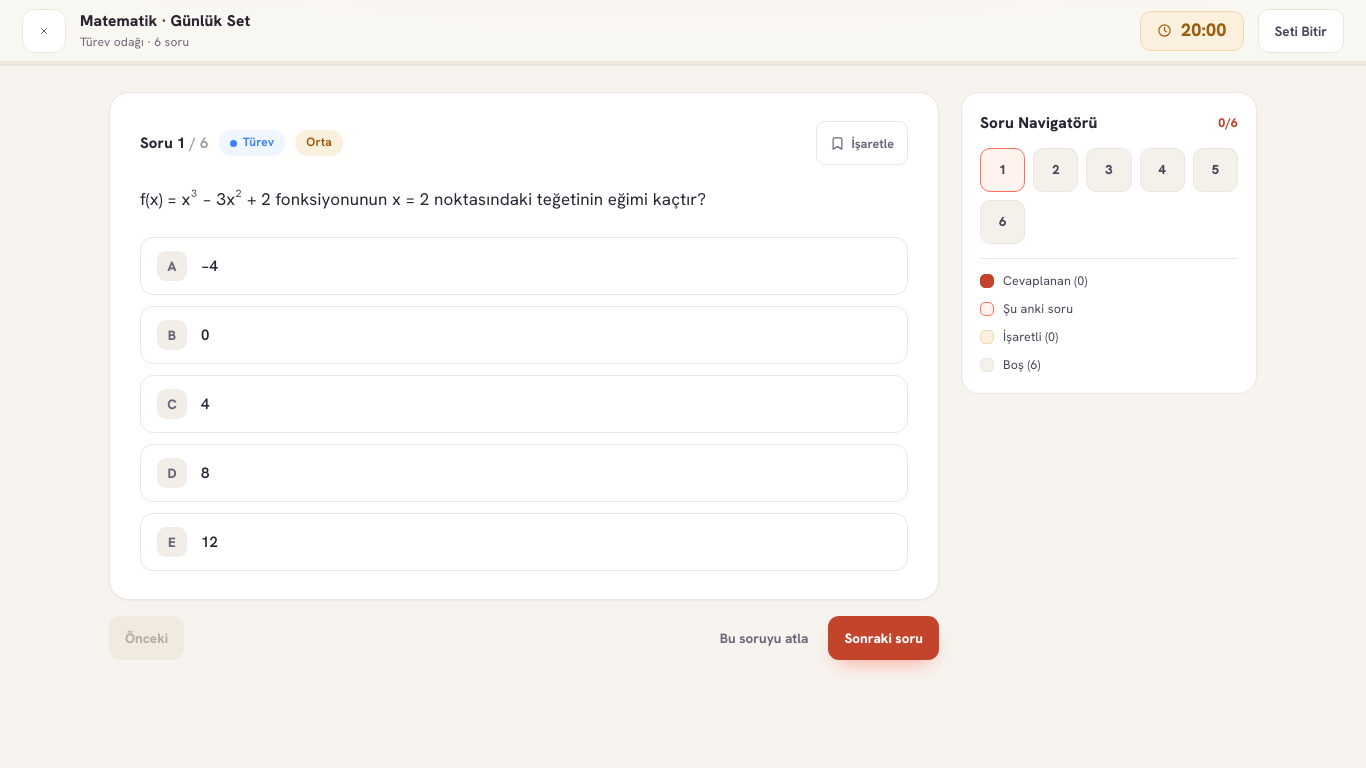
Test: SoruCozmePage › "Bu soruyu atla" bir sonraki soruya ilerletir
Expected: the element named "Şıklar" is shown, [140,237,908,571]
Expected: the button "Önceki" is disabled, [109,616,184,660]
Click the button "Bu soruyu atla" at point(764, 638), box [714,616,814,660]
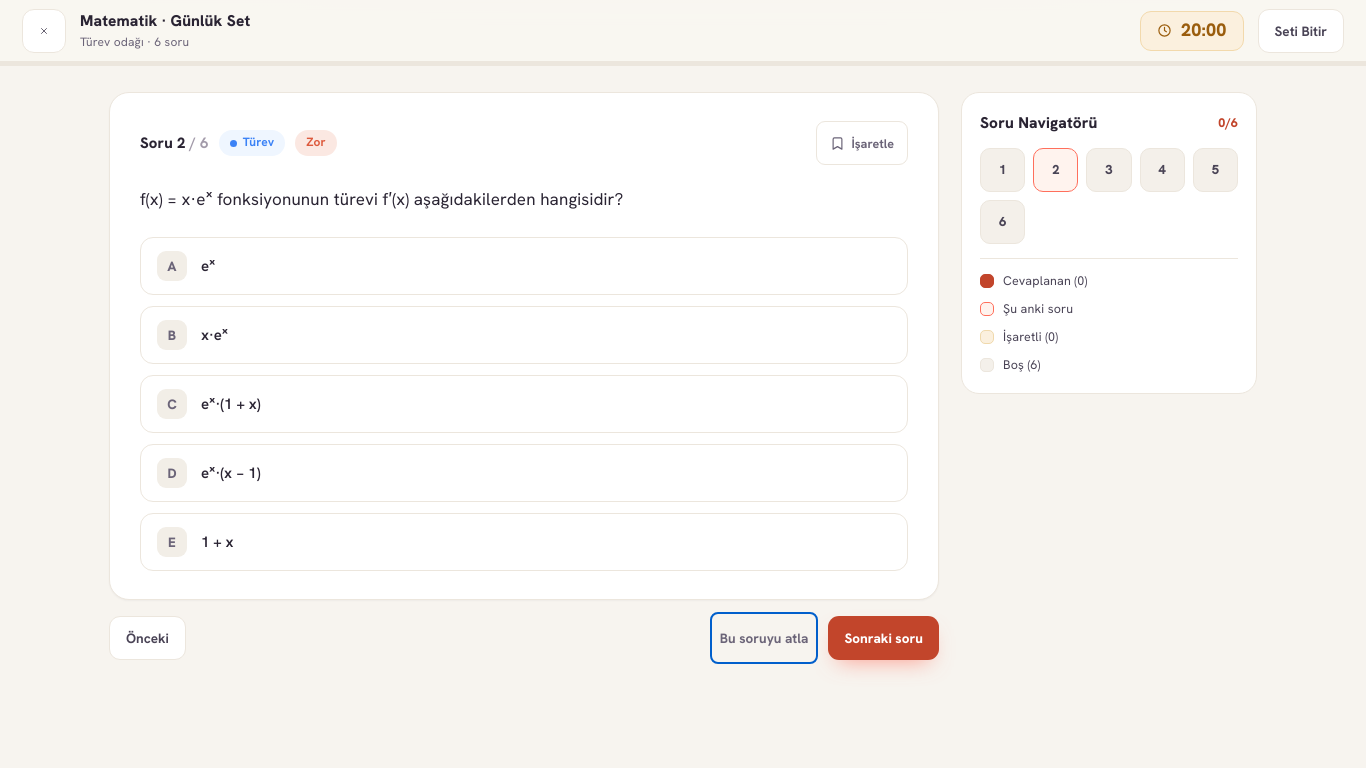
Expected: the button "Önceki" is enabled, [109,616,186,660]
